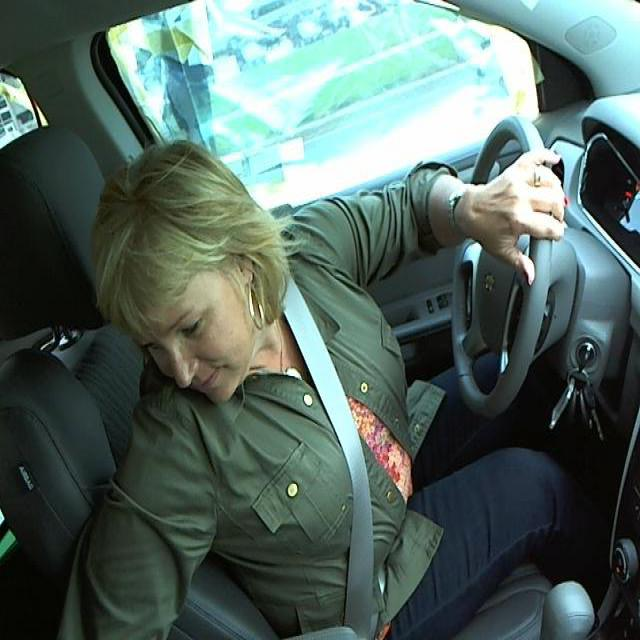seatbelt: (280, 296, 386, 636)
